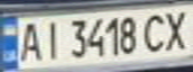1: (103, 14, 124, 56)
3: (63, 16, 87, 58)
4: (84, 15, 106, 57)
8: (118, 12, 142, 55)
A: (15, 19, 45, 63)
C: (139, 10, 169, 54)
I: (39, 17, 63, 61)
X: (160, 7, 193, 52)
